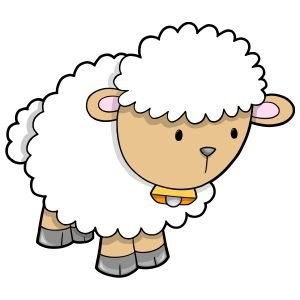sheep: (5, 20, 296, 279)
